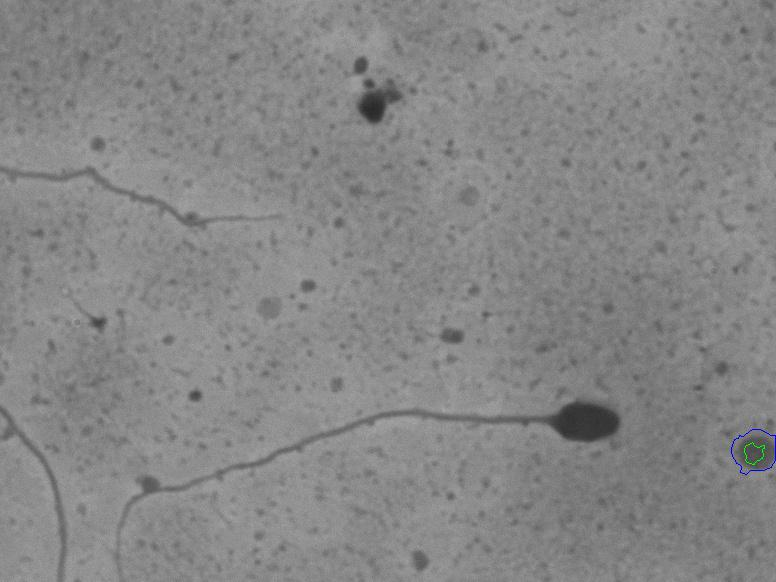Abnormal: (113, 365, 646, 566)
